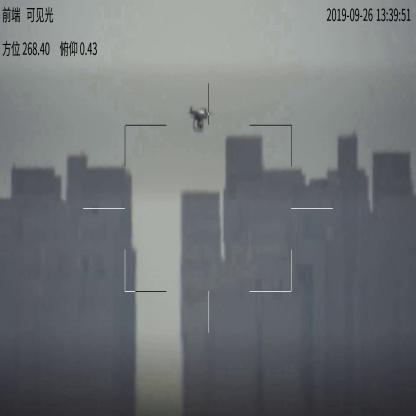uav: (187, 105, 215, 134)
